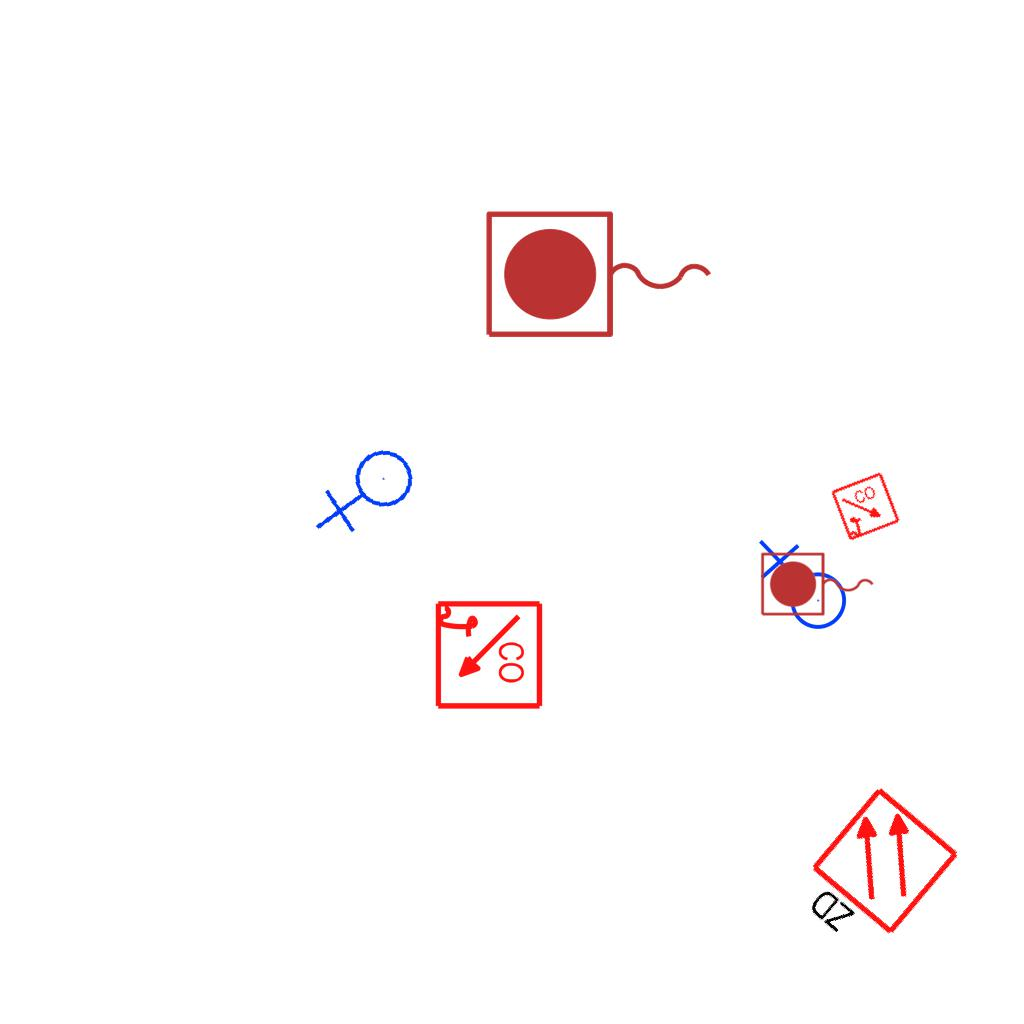Elektroanschluss_allgemein_230V_Geraeteanschlussdose_230V: (313, 440, 426, 548), (754, 539, 848, 638)
ROA_Rauchmelder_optisch_mit_Signalgeber_(Sockelsirene): (431, 599, 544, 712), (829, 470, 903, 544)
ZD_Melder_in_Zwischendecke_mit_Revisionsoeffnung_mind_40_x_40_cm: (782, 782, 966, 971)
Zugtaster: (478, 204, 722, 348), (757, 549, 879, 621)
